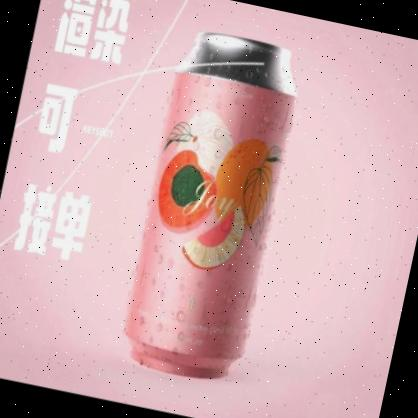can: (107, 16, 315, 389)
